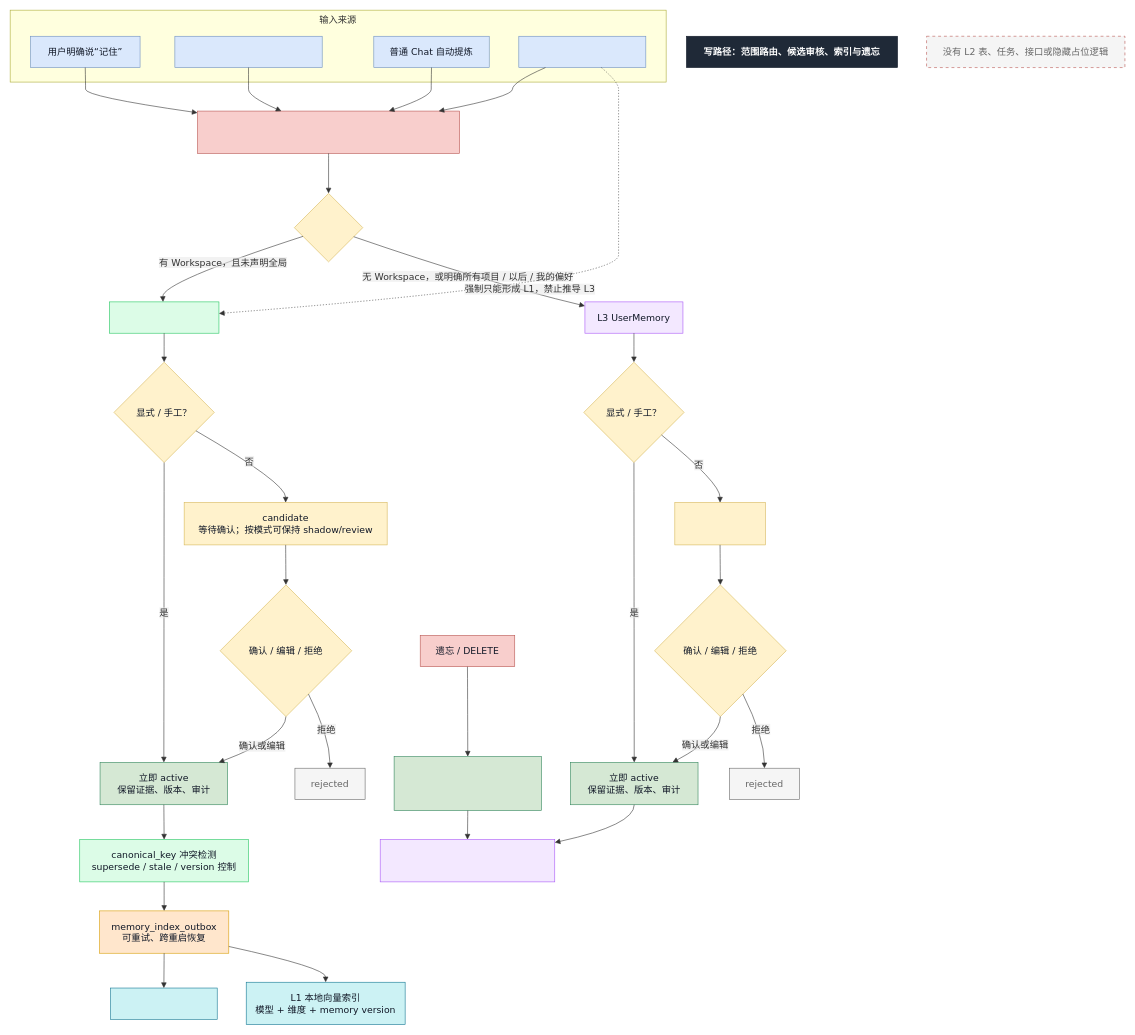
This 1135x1035 diagram has some shape labels left out. Here are the shapes that lost their labels. From the top down, the box of each, then its label:
(174, 36, 322, 68): 记忆工作台手工创建 / 编辑
(518, 36, 646, 68): Agent 结果 / Run 证据
(197, 110, 460, 153): 安全过滤 拒绝凭据、完整环境变量、权限提升要求、Prompt 注入
(294, 193, 363, 262): 范围路由
(109, 301, 219, 333): L1 ProjectMemory
(674, 502, 765, 545): candidate 等待用户确认
(394, 756, 541, 811): 事务删除事实与证据 清理 FTS / 向量 / 快照来源 记录审计
(380, 839, 555, 882): 确定性重建 UserProfileSnapshot 仅 active；有界、可解释、可重建
(110, 987, 217, 1019): L1 FTS5 词法索引
